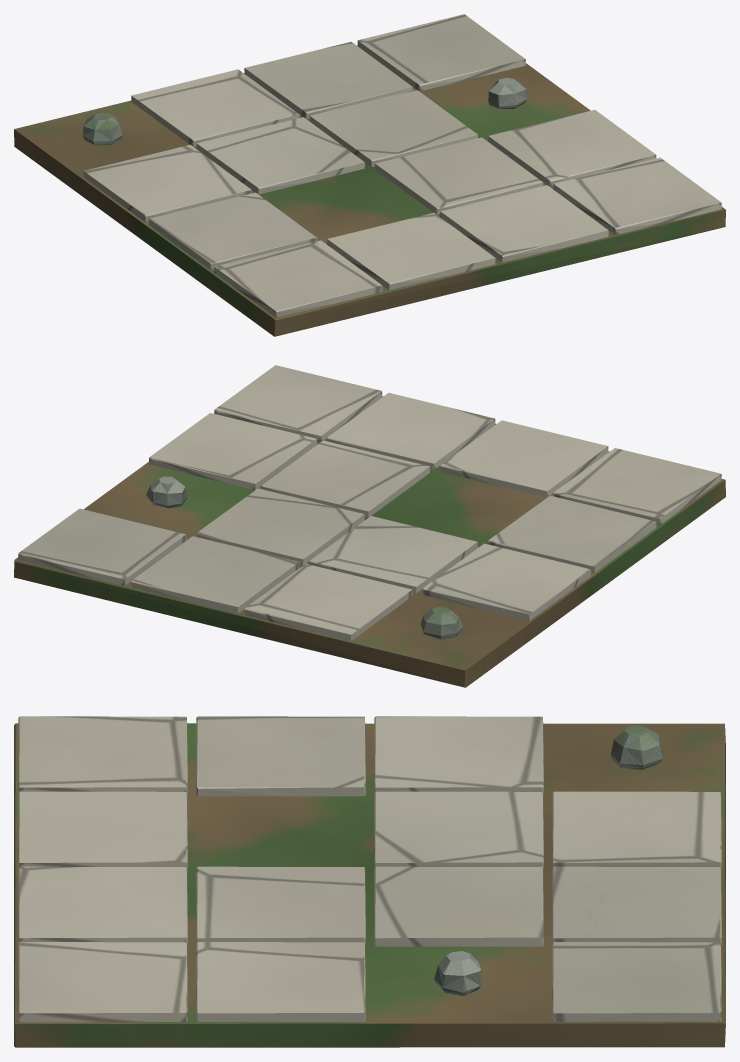
The model's file is t05_transition_broken_lod1.fbx.
The picture shows the model from 3 angles, top to bottom: view 1: azimuth 30°, elevation 25°; view 2: azimuth 150°, elevation 25°; view 3: azimuth 270°, elevation 25°; orthographic projection. The views are drawn at different scales.
Visible parts, largest first — view 1: t05_transition_broken.005; view 2: t05_transition_broken.005; view 3: t05_transition_broken.005.
Boxes of the visible parts, left/top/right/bottom form: t05_transition_broken.005: left=14, top=14, right=725, bottom=336; t05_transition_broken.005: left=14, top=365, right=725, bottom=687; t05_transition_broken.005: left=14, top=716, right=725, bottom=1047.
Size of the model in its own units: 25600 by 25546 by 2171.
